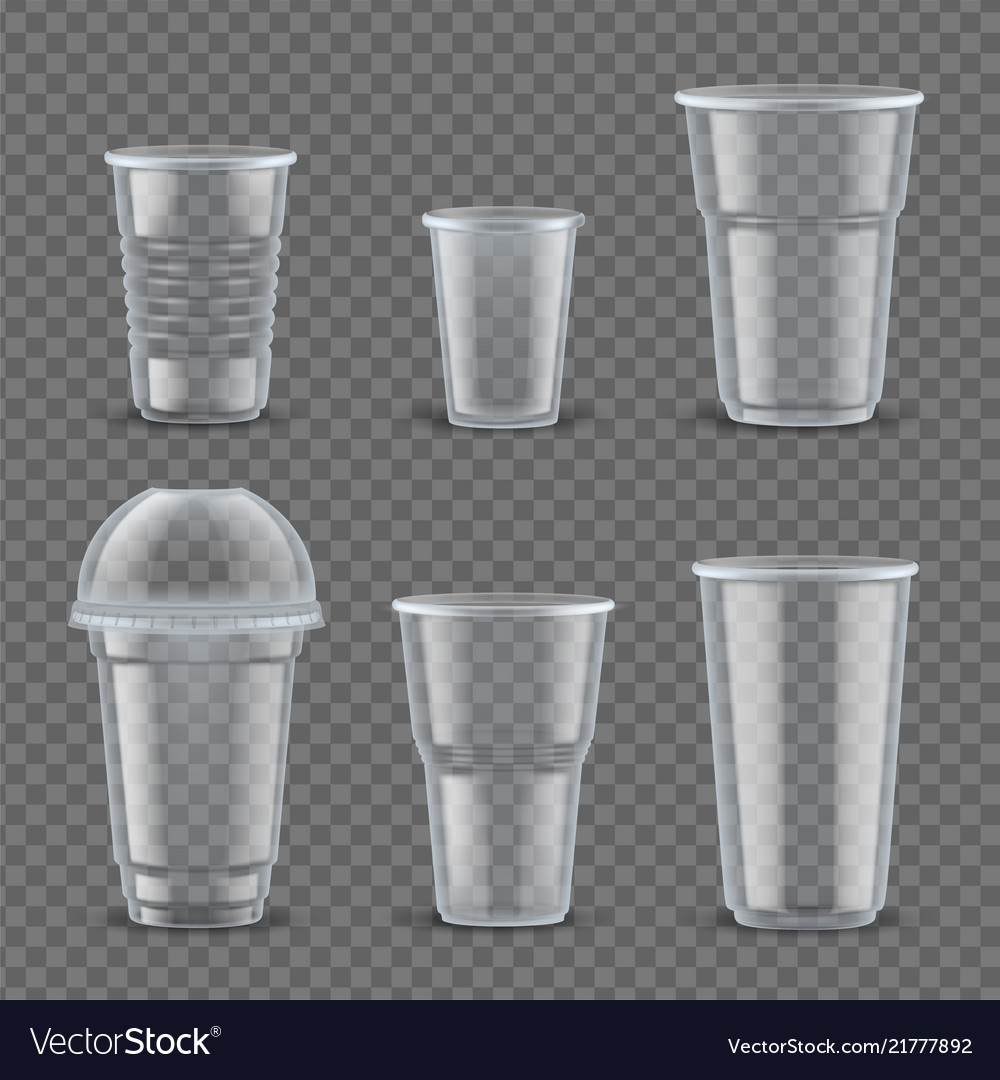plastic_glass: (611, 437, 951, 961), (358, 448, 665, 986), (45, 50, 356, 566), (42, 455, 340, 972), (660, 16, 956, 489), (378, 92, 629, 493)
